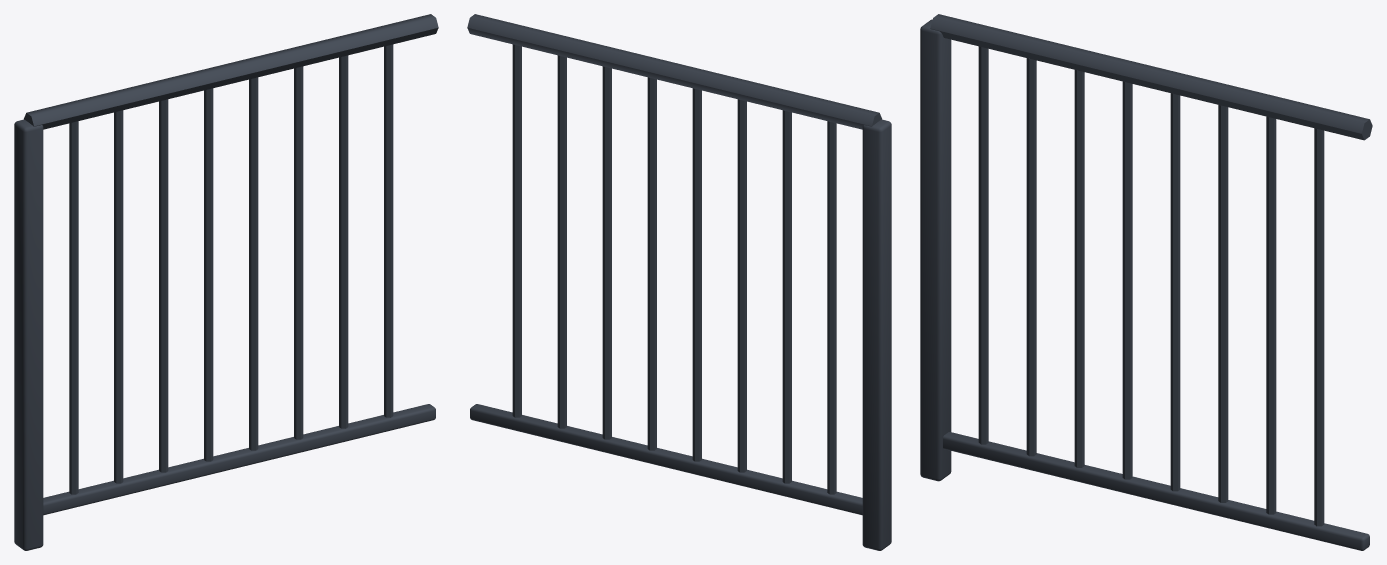
File: guarda_corpo_metal_1m.glb
3 views of the same model, side by side, from view 1: azimuth 30°, elevation 25°; view 2: azimuth 150°, elevation 25°; view 3: azimuth 330°, elevation 25° (orthographic). The views are drawn at different scales.
Visible parts, largest first — view 1: guarda_corpo_metal_1m; view 2: guarda_corpo_metal_1m; view 3: guarda_corpo_metal_1m.
Part boxes in pixels (x1,y1,x2,y2): guarda_corpo_metal_1m: (14,14,438,550); guarda_corpo_metal_1m: (467,14,891,550); guarda_corpo_metal_1m: (920,14,1372,550).
Size of the model in its own units: 1.03 by 1.02 by 0.05.
Materials: 1 (1 with a texture image).
